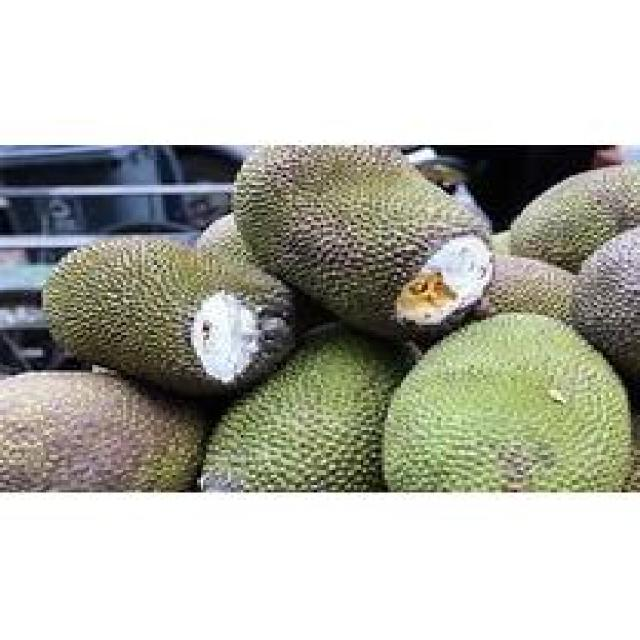Fruit: (25, 218, 326, 450), (360, 265, 640, 495)
